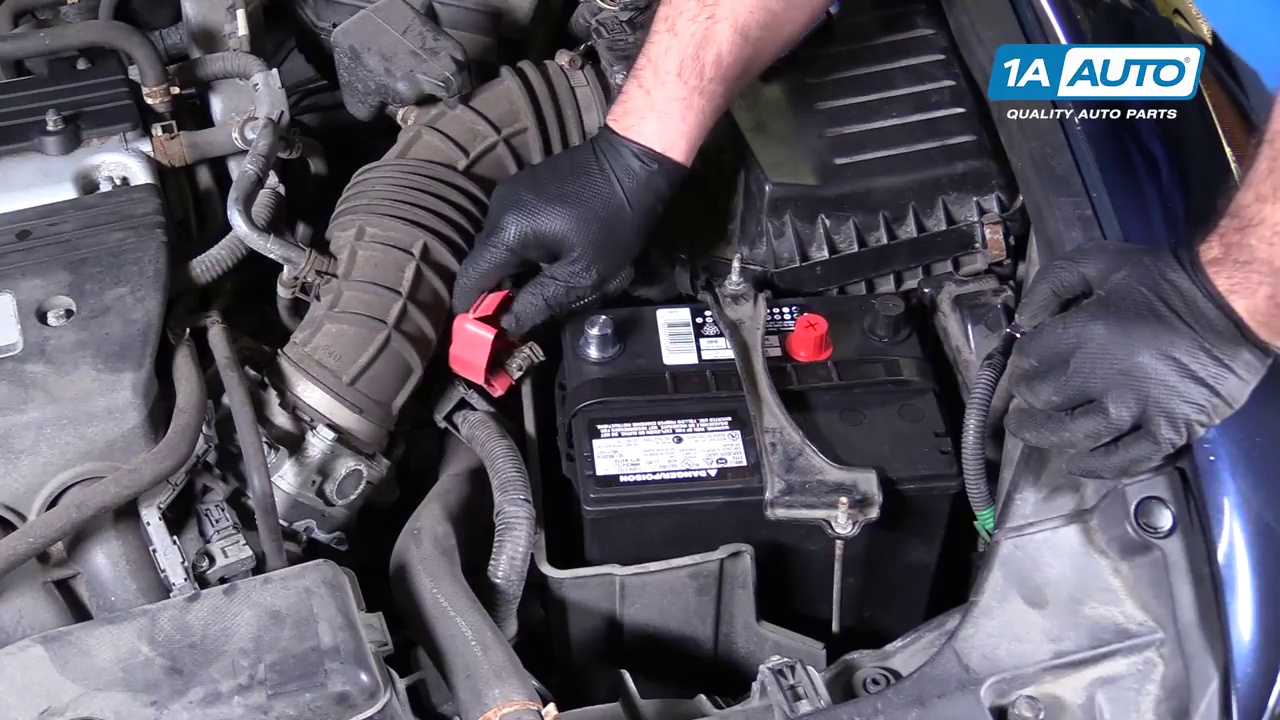battery: (552, 300, 970, 496)
pos_disconnected: (454, 256, 636, 386)
pos_touched: (450, 211, 650, 400)
